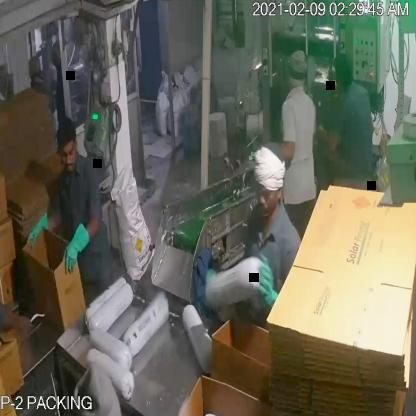glove: (60, 221, 90, 270), (256, 254, 278, 312), (23, 211, 53, 253)
no_glove: (0, 283, 40, 355), (268, 139, 299, 163)
